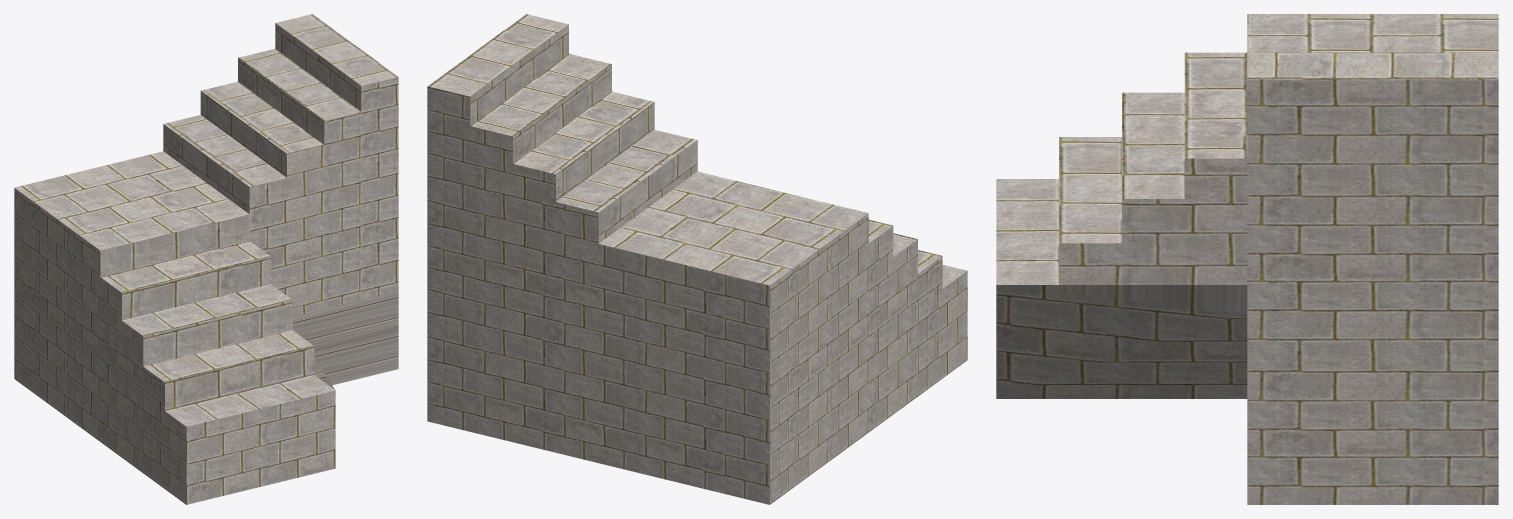
The model's file is Stone_Stairs_Turn-Right.fbx.
3 renders of one model, left to right at view 1: azimuth 30°, elevation 25°; view 2: azimuth 150°, elevation 25°; view 3: azimuth 270°, elevation 25°, orthographic. The views are drawn at different scales.
Visible parts, largest first — view 1: pCube2; view 2: pCube2; view 3: pCube2.
Boxes of the visible parts, x1,y1,x2,y2 form: pCube2: [14, 14, 398, 504]; pCube2: [427, 14, 967, 504]; pCube2: [996, 14, 1498, 504].
Size of the model in its own units: 8 by 7.48 by 8.
1 material, 1 textured.
